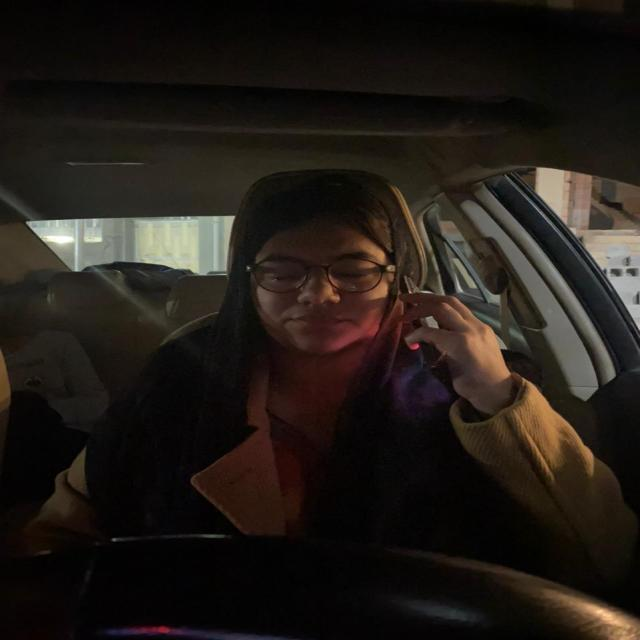mobile: (398, 279, 466, 377)
person: (256, 199, 388, 356)
